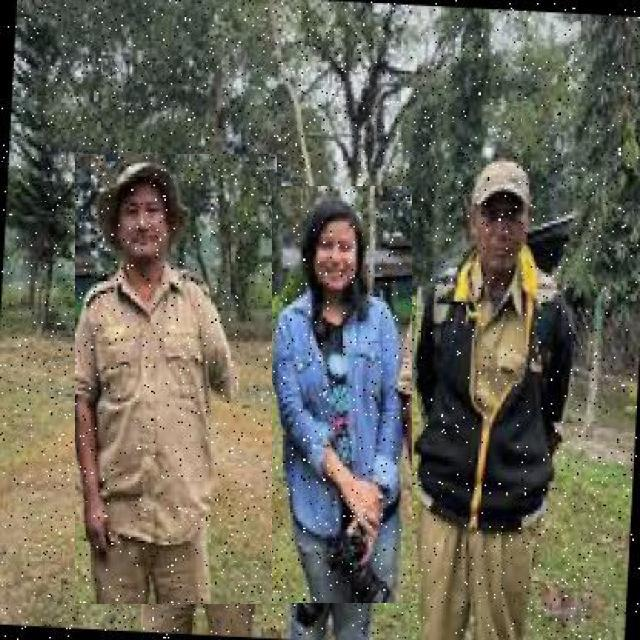poacher: (75, 153, 277, 604), (272, 186, 412, 603), (423, 145, 543, 598)
